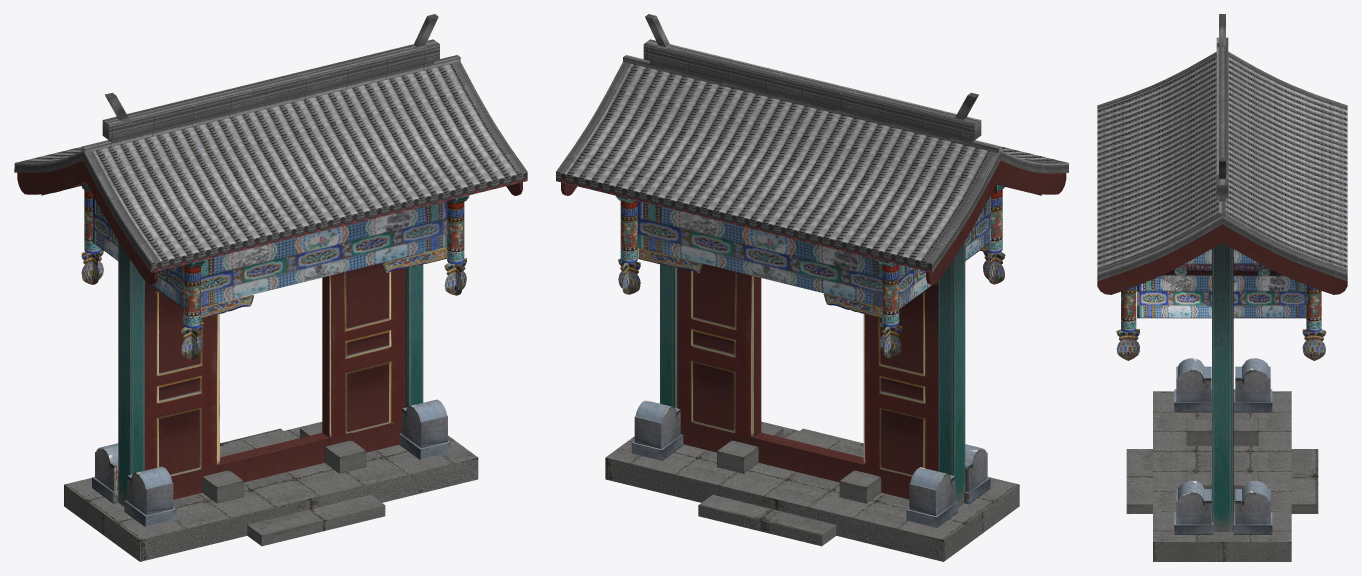
The model's file is BHGY_JZ_QHD_YQL_XCHM.obj.
The picture shows the model from 3 angles, left to right: view 1: azimuth 30°, elevation 25°; view 2: azimuth 150°, elevation 25°; view 3: azimuth 270°, elevation 25°; orthographic projection. The views are drawn at different scales.
Visible parts, largest first — view 1: yiqinglou_007_05_03; view 2: yiqinglou_007_05_03; view 3: yiqinglou_007_05_03.
Part boxes in pixels (x1,y1,x2,y2): yiqinglou_007_05_03: (14,14,527,561); yiqinglou_007_05_03: (556,14,1068,561); yiqinglou_007_05_03: (1097,14,1347,561).
Bounding box in the file's own units: 3.79 × 4.21 × 2.39.
Materials: 5 (5 with a texture image).
